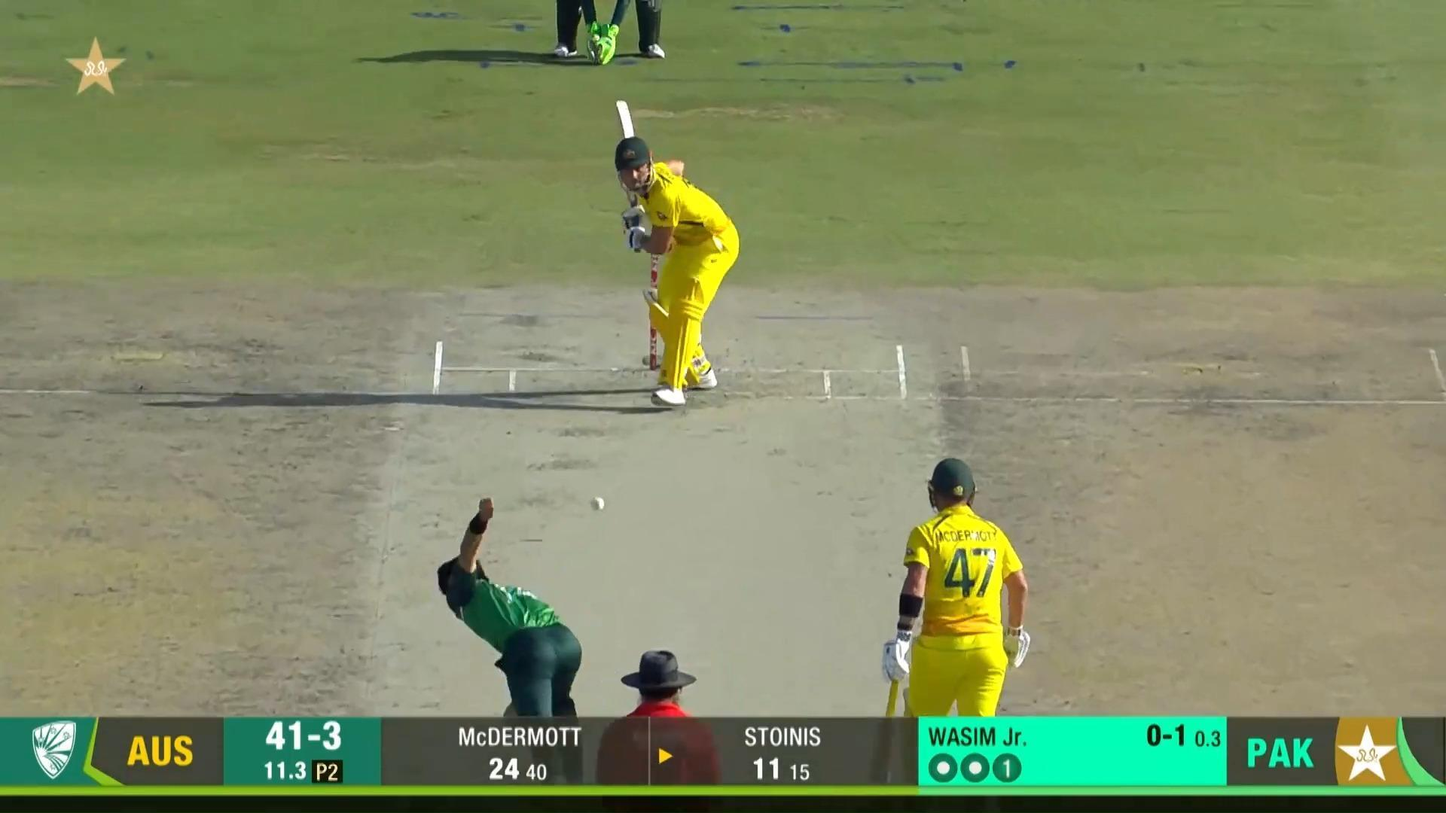BM 1: (614, 98, 740, 408)
BO: (436, 495, 587, 796)
